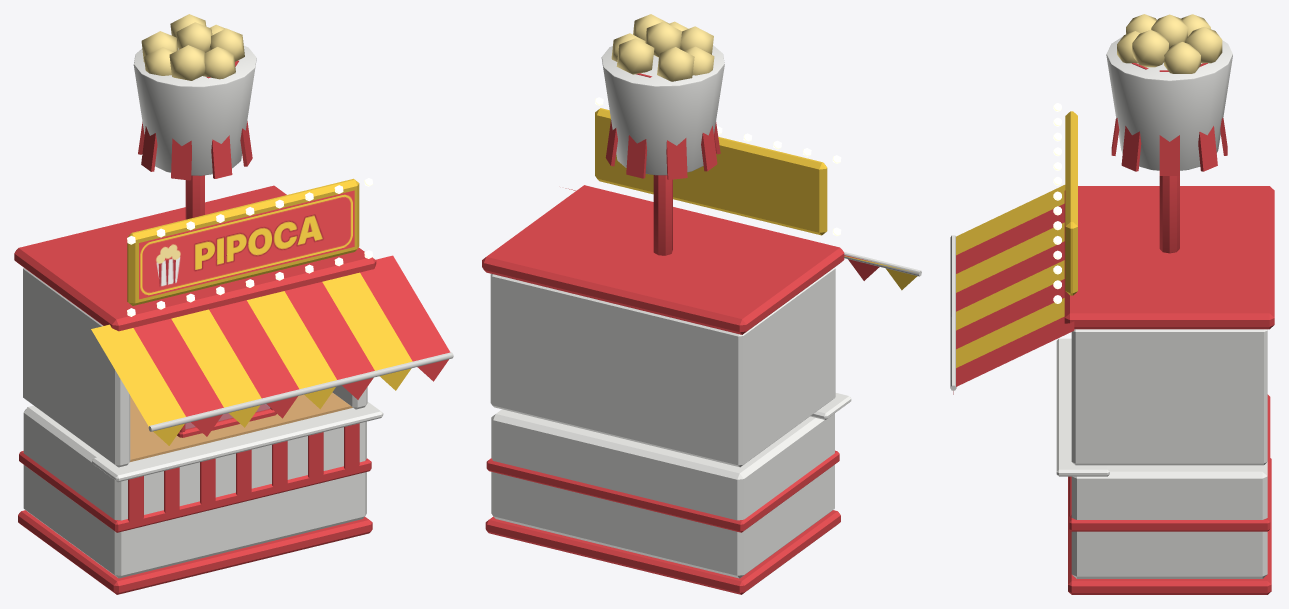
The model's file is quiosque_pipoca.glb.
3 views of the same model, side by side, from view 1: azimuth 30°, elevation 25°; view 2: azimuth 150°, elevation 25°; view 3: azimuth 270°, elevation 25° (orthographic). The views are drawn at different scales.
Visible parts, largest first — view 1: quiosque_pipoca, lampadas; view 2: quiosque_pipoca; view 3: quiosque_pipoca, lampadas.
Part boxes in pixels (x1,y1,x2,y2): quiosque_pipoca: (14, 14, 453, 594); lampadas: (127, 178, 372, 316); quiosque_pipoca: (482, 14, 921, 594); quiosque_pipoca: (950, 14, 1274, 594); lampadas: (1053, 103, 1061, 303).
Bounding box in the file's own units: 2.8 × 4.49 × 2.55.
Materials: 4 (2 with a texture image).
